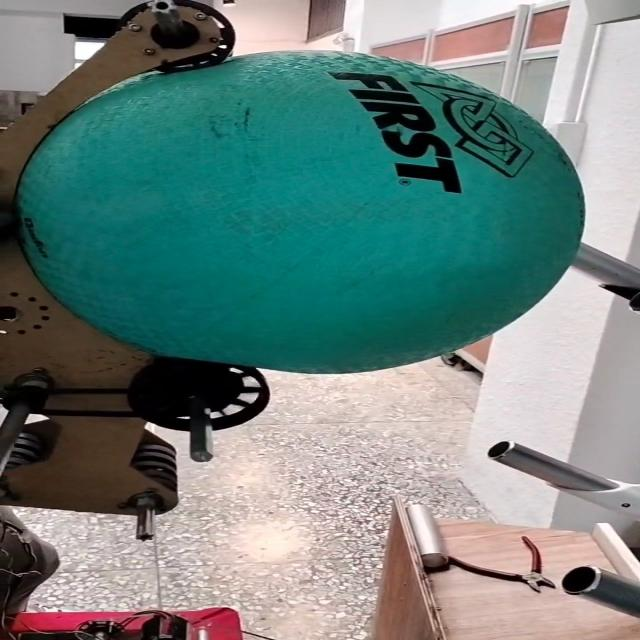ALGAE: (18, 47, 592, 376)
